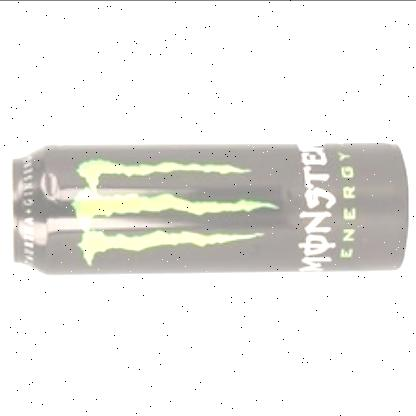Can: (4, 140, 408, 276)
